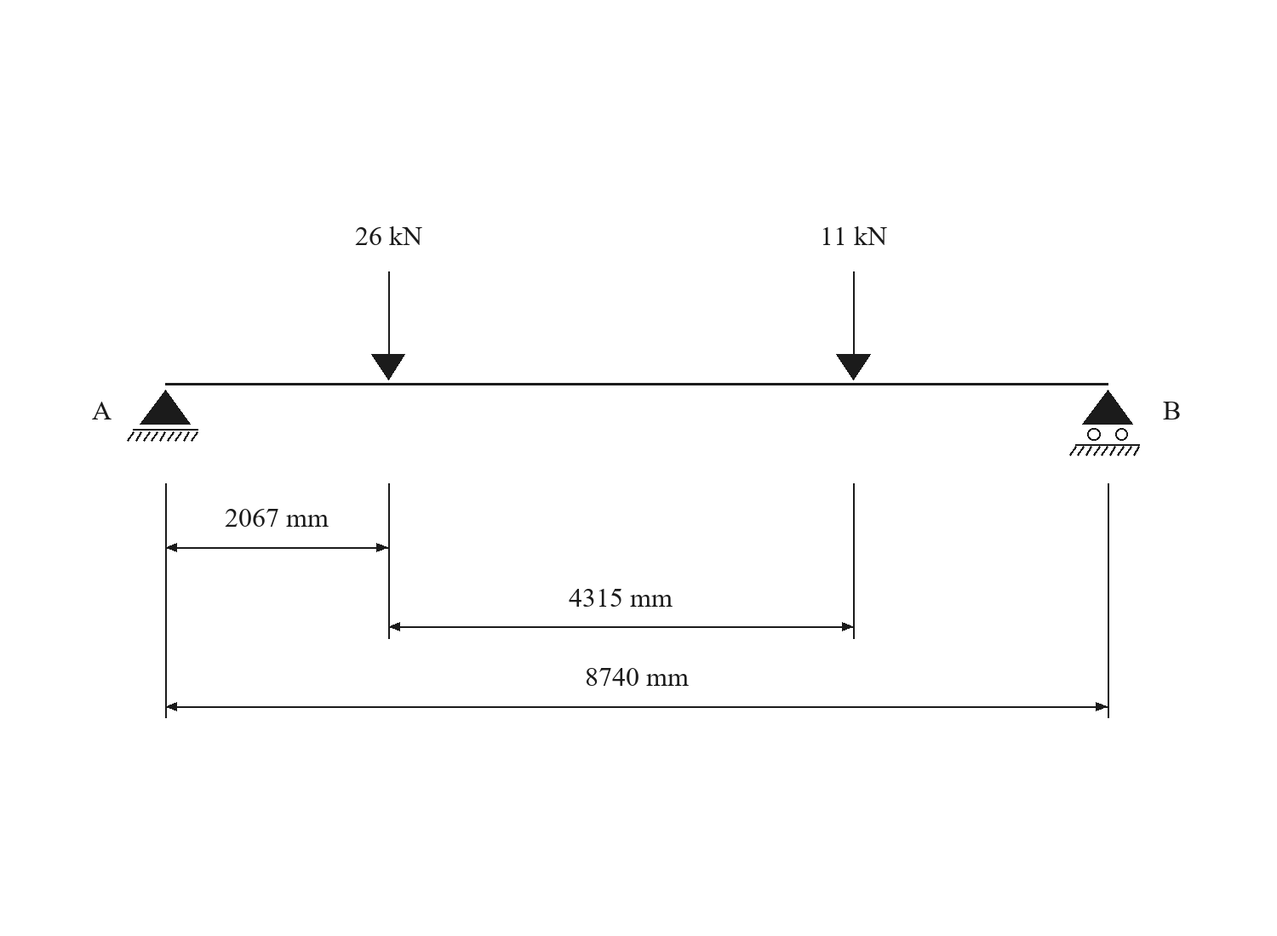pin_support: (127, 390, 198, 442)
point_load: (836, 271, 871, 380), (371, 271, 405, 380)
roller_support: (1069, 390, 1140, 456)
